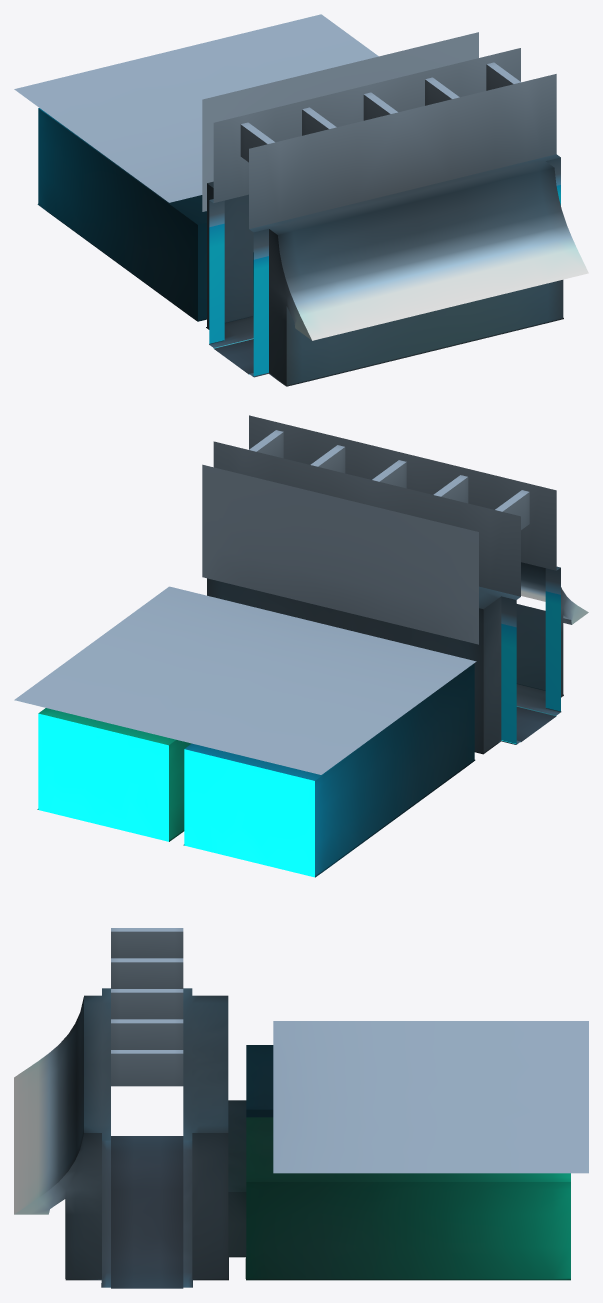
The model's file is M_Small_room.fbx.
The picture shows the model from 3 angles, top to bottom: view 1: azimuth 30°, elevation 25°; view 2: azimuth 150°, elevation 25°; view 3: azimuth 270°, elevation 25°; orthographic projection.
Visible parts, largest first — view 1: Room.016; view 2: Room.016; view 3: Room.016.
Boxes of the visible parts, left/top/right/bottom form: Room.016: left=14, top=14, right=588, bottom=386; Room.016: left=14, top=415, right=588, bottom=877; Room.016: left=14, top=928, right=588, bottom=1288.
Size of the model in its own units: 2000 by 1405 by 3189.
